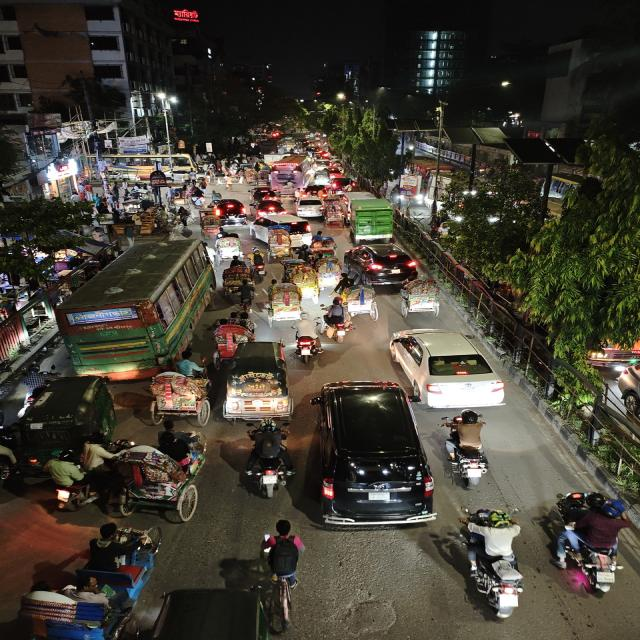bicycle: (255, 517, 310, 636)
bus: (55, 239, 213, 377), (310, 380, 436, 532), (270, 154, 307, 176)
car: (385, 326, 508, 412), (345, 242, 422, 284), (252, 215, 312, 251), (212, 197, 247, 221), (294, 196, 328, 218), (253, 199, 285, 217), (250, 187, 281, 203), (329, 178, 356, 194), (326, 166, 345, 178)
cng: (23, 374, 120, 444), (220, 339, 293, 431)
motorcycle: (451, 505, 535, 623), (545, 489, 634, 596), (438, 409, 498, 491), (242, 426, 292, 498), (320, 298, 353, 341), (291, 332, 324, 364), (249, 248, 269, 280)
pedestrian: (178, 206, 192, 227)
rickshaw: (13, 516, 180, 640), (114, 429, 215, 524), (142, 357, 215, 427), (332, 274, 381, 320), (396, 278, 447, 320), (262, 281, 305, 328), (209, 318, 253, 359), (221, 254, 255, 302), (287, 261, 325, 299), (214, 232, 245, 260), (307, 235, 338, 262), (197, 209, 223, 237), (265, 230, 291, 257), (277, 178, 298, 198), (311, 171, 331, 185)
truck: (340, 195, 397, 241)
